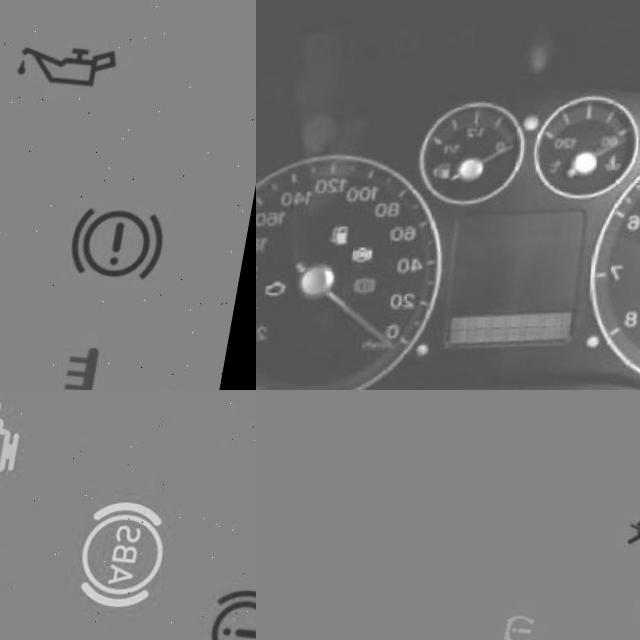Low fuel level: (341, 208, 366, 234)
